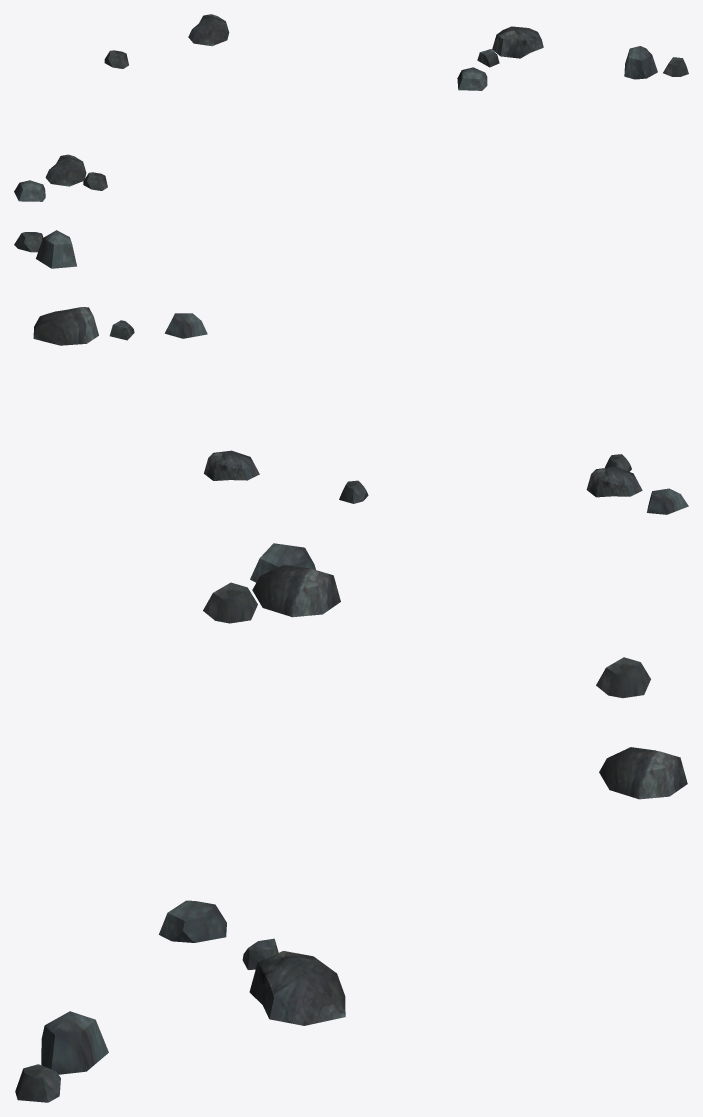
The model's file is object_rubble05.fbx.
3 renders of one model, top to bottom at view 1: azimuth 30°, elevation 25°; view 2: azimuth 150°, elevation 25°; view 3: azimuth 270°, elevation 25°, orthographic. The views are drawn at different scales.
Visible parts, largest first — view 1: Material_#238683587/cliffside; view 2: Material_#238683587/cliffside; view 3: Material_#238683587/cliffside.
Boxes of the visible parts, x1,y1,x2,y2 form: Material_#238683587/cliffside: [14, 14, 688, 201]; Material_#238683587/cliffside: [14, 230, 688, 514]; Material_#238683587/cliffside: [15, 543, 687, 1102].
Bounding box in the file's own units: 9.4 × 0.7986 × 4.47.
